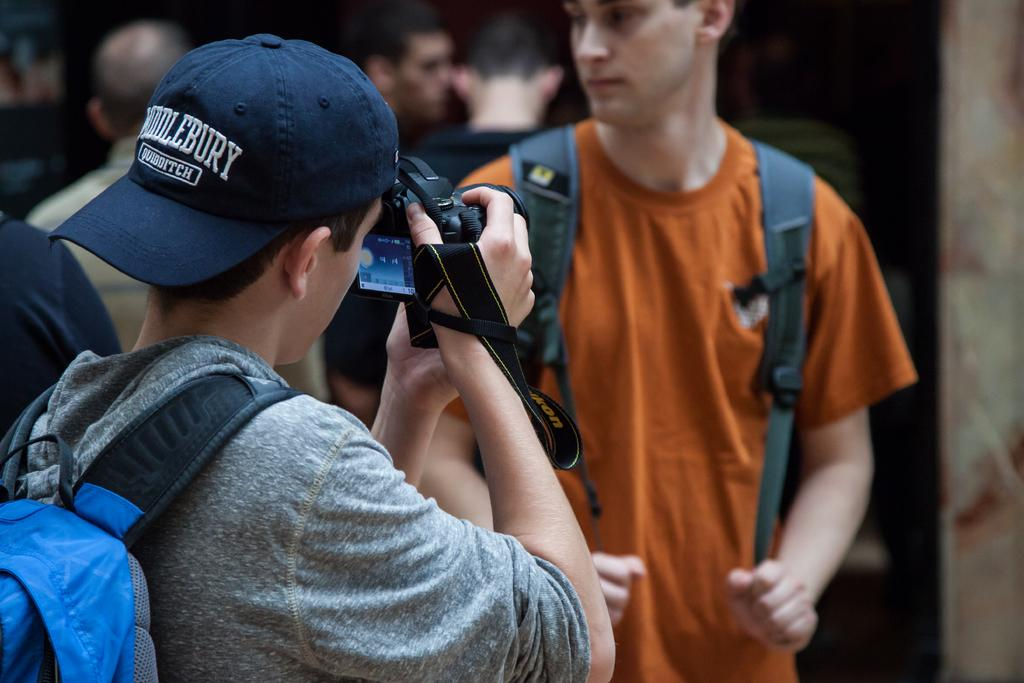Hat: (50, 34, 402, 292)
